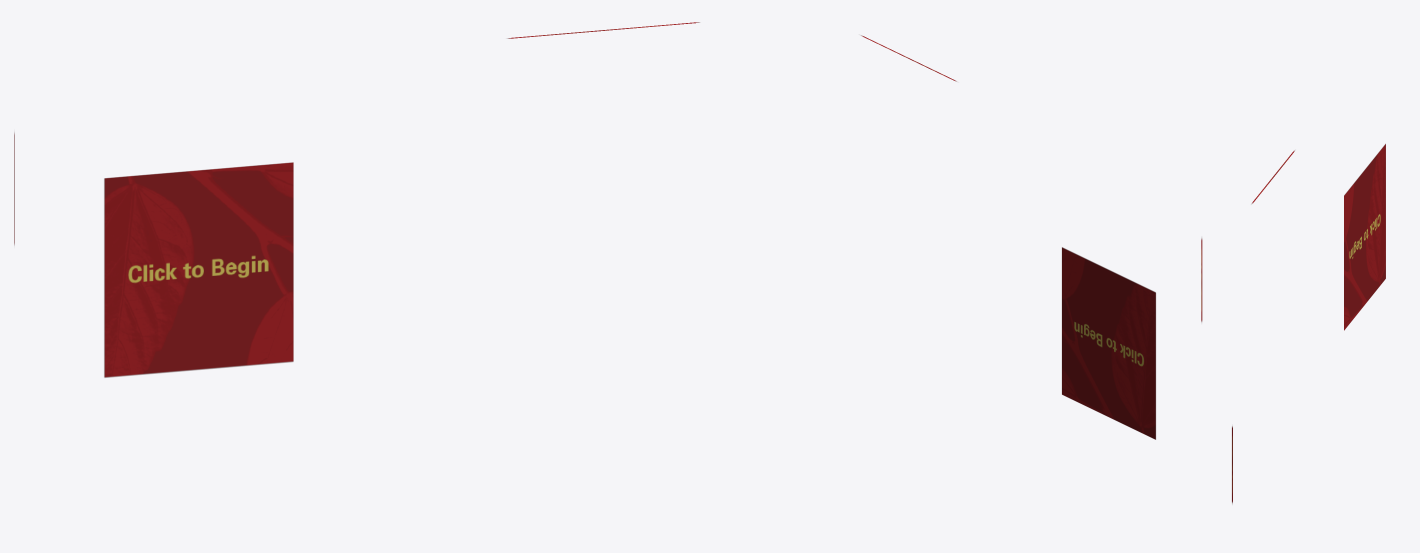
Rendered from HibiscusSplashModel_interior.gltf.
3 views of the same model, side by side, from view 1: azimuth 30°, elevation 25°; view 2: azimuth 150°, elevation 25°; view 3: azimuth 270°, elevation 25° (orthographic). The views are drawn at different scales.
Parts seen in each view (by area): view 1: splashscreenglb; view 2: splashscreenglb; view 3: splashscreenglb.
Boxes of the visible parts, bbox=[...] form: splashscreenglb: bbox=[14, 22, 699, 377]; splashscreenglb: bbox=[861, 35, 1202, 439]; splashscreenglb: bbox=[1232, 144, 1385, 503].
Size of the model in its own units: 1.48 by 1 by 0.5094.
Materials: 1 (1 with a texture image).
